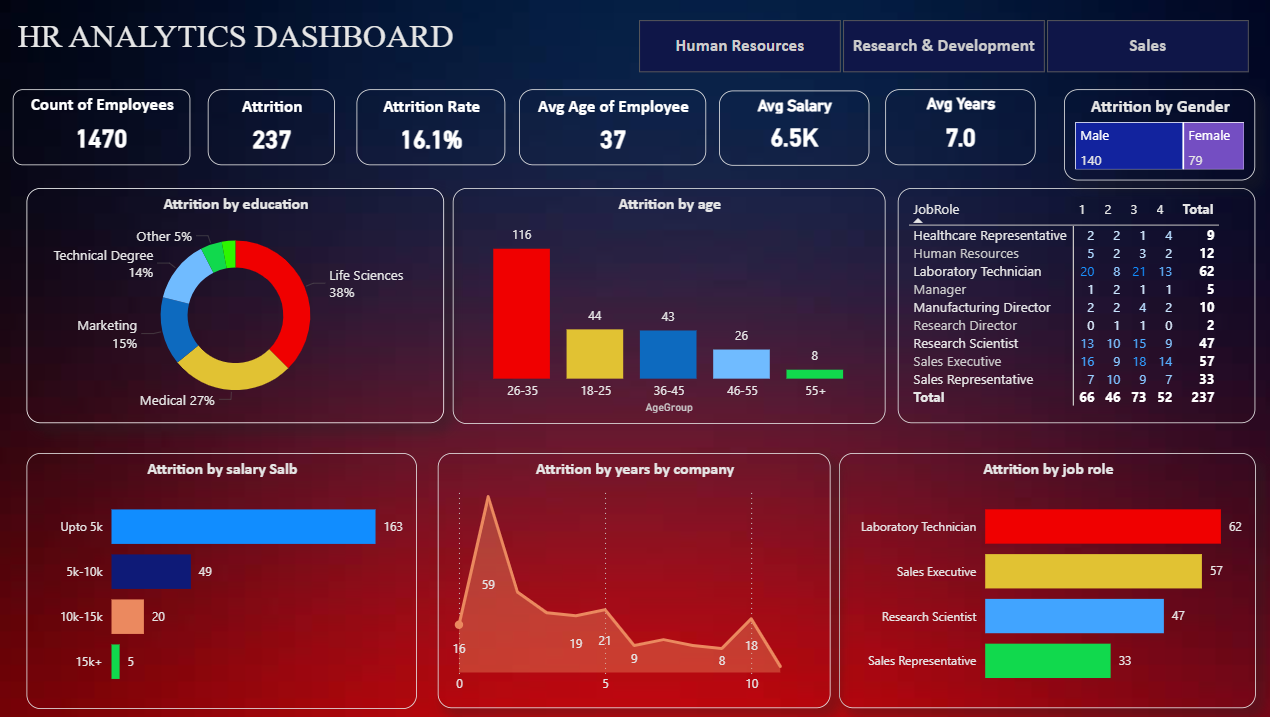

Layout of this report page (visuals, bound fields, positions):
{"tool":"powerbi","page":{"name":"Page 1","canvas":[1280,720],"ordinal":0},"visuals":[{"type":"card","title":"Count of Employees","fields":{"Values":["CountNonNull(HR_Analytics.EmpID)"]},"box":[18.8,91.2,177.5,76.2],"z":0},{"type":"card","title":"Attrition","fields":{"Values":["Sum(HR_Analytics.Attrition count)"]},"box":[213.8,91.2,127.5,76.2],"z":1000},{"type":"card","title":"Attrition Rate","fields":{"Values":["HR_Analytics.AttritionRate"]},"box":[362.5,91.2,148.8,76.2],"z":2000},{"type":"card","title":"Avg Age of Employee","fields":{"Values":["Avg(HR_Analytics.Age)"]},"box":[525,91.2,187.5,76.2],"z":3000},{"type":"card","title":"Avg Salary","fields":{"Values":["Avg(HR_Analytics.MonthlyIncome)"]},"box":[725,92.5,150,75],"z":4000},{"type":"card","title":"Avg Years","fields":{"Values":["Avg(HR_Analytics.YearsAtCompany)"]},"box":[891.2,91.2,150,76.2],"z":5000},{"type":"donutChart","title":"Attrition by education","fields":{"Category":["HR_Analytics.EducationField"],"Y":["Sum(HR_Analytics.Attrition count)"]},"box":[32.5,190,417.5,235],"z":6000},{"type":"columnChart","title":"Attrition by age","fields":{"Category":["HR_Analytics.AgeGroup"],"Y":["Sum(HR_Analytics.Attrition count)"]},"box":[458.8,190,432.5,236.2],"z":7000},{"type":"pivotTable","fields":{"Rows":["HR_Analytics.JobRole"],"Columns":["HR_Analytics.JobSatisfaction"],"Values":["Sum(HR_Analytics.Attrition count)"]},"box":[903.8,190,357.5,235],"z":8000},{"type":"barChart","title":"Attrition by salary Salb","fields":{"Category":["HR_Analytics.SalarySlab"],"Y":["Sum(HR_Analytics.Attrition count)"]},"box":[32.5,455,390,256.2],"z":9000},{"type":"barChart","title":"Attrition by job role","fields":{"Category":["HR_Analytics.JobRole"],"Y":["Sum(HR_Analytics.Attrition count)"]},"box":[845.4,455.5,417.2,255.2],"z":10000},{"type":"stackedAreaChart","title":"Attrition by years by company","fields":{"Category":["HR_Analytics.YearsAtCompany"],"Y":["Sum(HR_Analytics.Attrition count)"]},"box":[444.2,455.5,392.6,255.2],"z":11000},{"type":"treemap","title":"Attrition by Gender","fields":{"Values":["Sum(HR_Analytics.Attrition count)"],"Group":["HR_Analytics.Gender"]},"box":[1070,91.2,191.2,91.2],"z":12000},{"type":"slicer","fields":{"Values":["HR_Analytics.Department"]},"box":[618.8,15,660,66.2],"z":13000},{"type":"textbox","box":[18.8,15,537.5,56.2],"z":14000}]}

Visuals, with their boxes in screenshot pixels (x1, y1, x2, y2), scaled from the page's 1280x720 canvas onto the 1270x717 screenshot:
"Count of Employees" card: {"left": 19, "top": 91, "right": 195, "bottom": 167}
"Attrition" card: {"left": 212, "top": 91, "right": 339, "bottom": 167}
"Attrition Rate" card: {"left": 360, "top": 91, "right": 507, "bottom": 167}
"Avg Age of Employee" card: {"left": 521, "top": 91, "right": 707, "bottom": 167}
"Avg Salary" card: {"left": 719, "top": 92, "right": 868, "bottom": 167}
"Avg Years" card: {"left": 884, "top": 91, "right": 1033, "bottom": 167}
"Attrition by education" donutChart: {"left": 32, "top": 189, "right": 446, "bottom": 423}
"Attrition by age" columnChart: {"left": 455, "top": 189, "right": 884, "bottom": 424}
pivotTable - HR_Analytics.JobRole x HR_Analytics.JobSatisfaction: {"left": 897, "top": 189, "right": 1251, "bottom": 423}
"Attrition by salary Salb" barChart: {"left": 32, "top": 453, "right": 419, "bottom": 708}
"Attrition by job role" barChart: {"left": 839, "top": 454, "right": 1253, "bottom": 708}
"Attrition by years by company" stackedAreaChart: {"left": 441, "top": 454, "right": 830, "bottom": 708}
"Attrition by Gender" treemap: {"left": 1062, "top": 91, "right": 1251, "bottom": 182}
slicer - HR_Analytics.Department: {"left": 614, "top": 15, "right": 1269, "bottom": 81}
textbox: {"left": 19, "top": 15, "right": 552, "bottom": 71}
